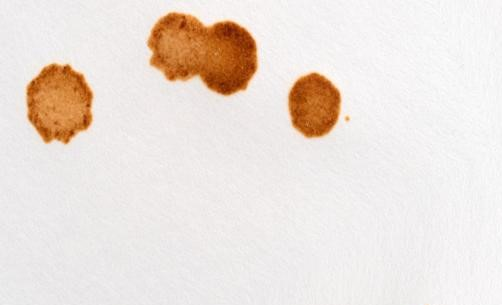stain: (145, 8, 261, 104), (23, 62, 98, 152), (286, 69, 347, 142)
